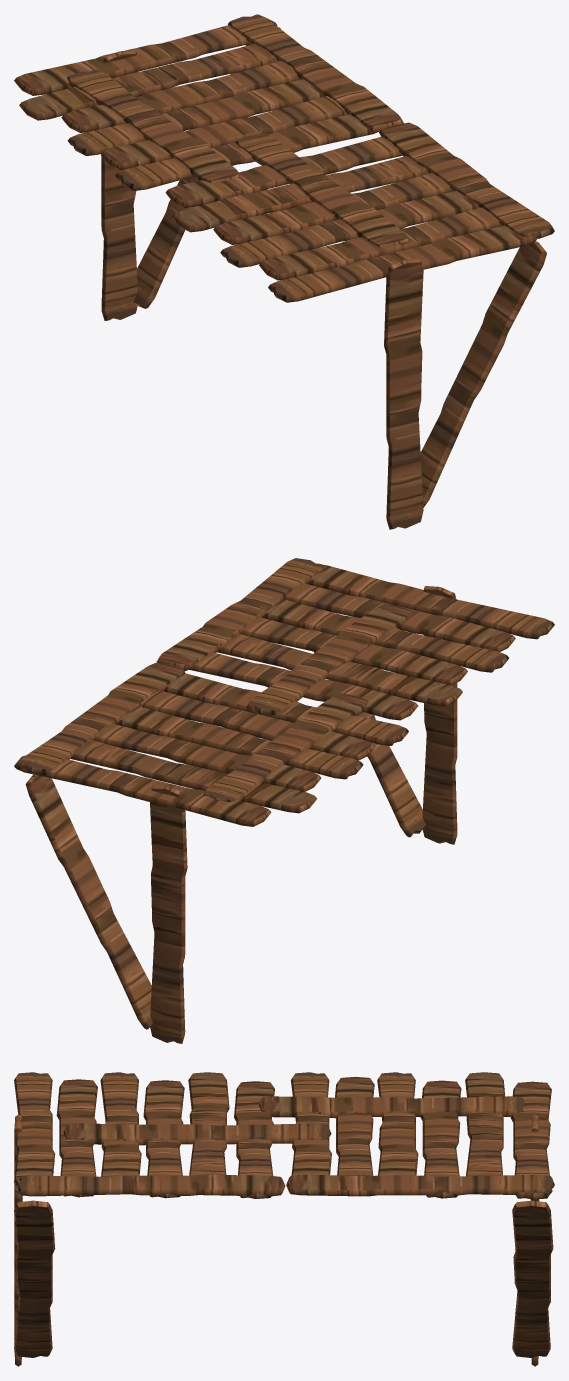
Rendered from Shade.fbx.
3 renders of one model, top to bottom at view 1: azimuth 30°, elevation 25°; view 2: azimuth 150°, elevation 25°; view 3: azimuth 270°, elevation 25°, orthographic. The views are drawn at different scales.
Parts seen in each view (by area): view 1: Single_Plank__7__1, Single_Plank__6__1, Single_Plank__5__1, Single_Plank__7_, Single_Plank__9__1, Single_Plank__6_, Single_Plank__8_, Single_Plank__9_, Single_Plank__1__1, Single_Plank__1_, Single_Plank__3_, Single_Plank__3__1 (+8 smaller); view 2: Single_Plank__9__1, Single_Plank__8__1, Single_Plank__5__1, Single_Plank__7__1, Single_Plank__6_, Single_Plank__7_, Single_Plank, Single_Plank__8_, Single_Plank__1__1, Single_Plank__1_, Single_Plank__9_, Single_Plank__3_ (+8 smaller); view 3: Single_Plank__6__1, Single_Plank__8__1, Single_Plank__7_, Single_Plank__6_, Single_Plank__9_, Single_Plank__8_, Single_Plank__5__1, Single_Plank, Single_Plank__3_, Single_Plank__1__1, Single_Plank__1_, Single_Plank__3__1 (+7 smaller).
Boxes of the visible parts, x1,y1,x2,y2 form: Single_Plank__7__1: (384,258,423,529); Single_Plank__6__1: (420,241,546,507); Single_Plank__5__1: (268,225,536,302); Single_Plank__7_: (379,122,554,238); Single_Plank__9__1: (101,50,137,320); Single_Plank__6_: (228,14,403,132); Single_Plank__8_: (235,133,409,247); Single_Plank__9_: (67,69,240,182); Single_Plank__1__1: (172,156,428,232); Single_Plank__1_: (19,44,277,120); Single_Plank__3_: (67,79,323,155); Single_Plank__3__1: (220,191,479,267); Single_Plank__9__1: (150,785,187,1043); Single_Plank__8__1: (25,774,152,1029); Single_Plank__5__1: (307,564,554,639); Single_Plank__7__1: (422,586,457,844); Single_Plank__6_: (17,662,184,775); Single_Plank__7_: (156,558,323,670); Single_Plank: (14,752,271,826); Single_Plank__8_: (246,604,412,715); Single_Plank__1__1: (217,633,462,706); Single_Plank__1_: (70,739,316,813); Single_Plank__9_: (202,693,368,802); Single_Plank__3_: (117,706,363,779); Single_Plank__6__1: (14,1200,55,1357); Single_Plank__8__1: (512,1200,553,1357); Single_Plank__7_: (16,1174,285,1196); Single_Plank__6_: (286,1174,554,1196); Single_Plank__9_: (259,1096,525,1118); Single_Plank__8_: (63,1123,331,1145); Single_Plank__5__1: (14,1072,55,1185); Single_Plank: (510,1081,551,1199); Single_Plank__3_: (377,1072,418,1175); Single_Plank__1__1: (188,1072,229,1175); Single_Plank__1_: (465,1072,505,1176); Single_Plank__3__1: (100,1072,141,1176).
Size of the model in its own units: 395 by 364 by 733.
